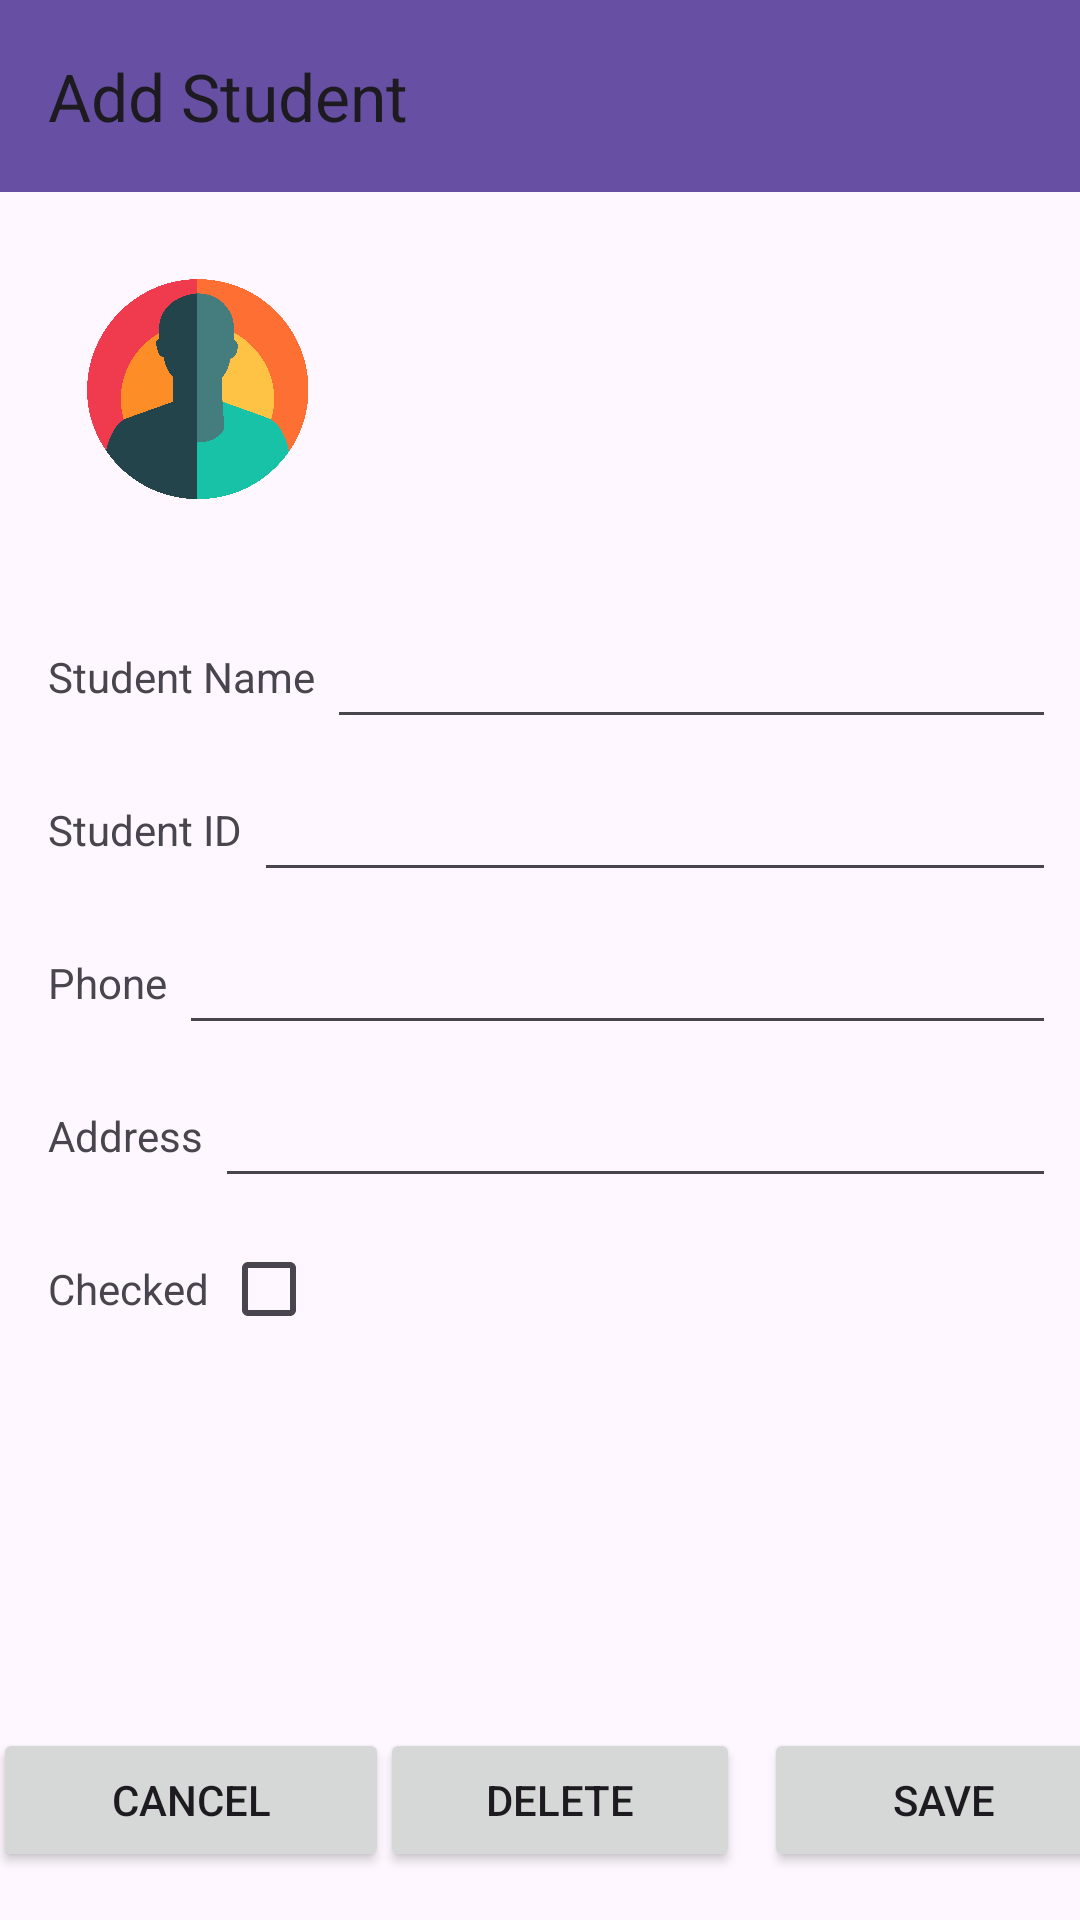

Where to tap for icons on this 1080 x 1920 app screen, as point (x, y):
profile: point (197, 389)
